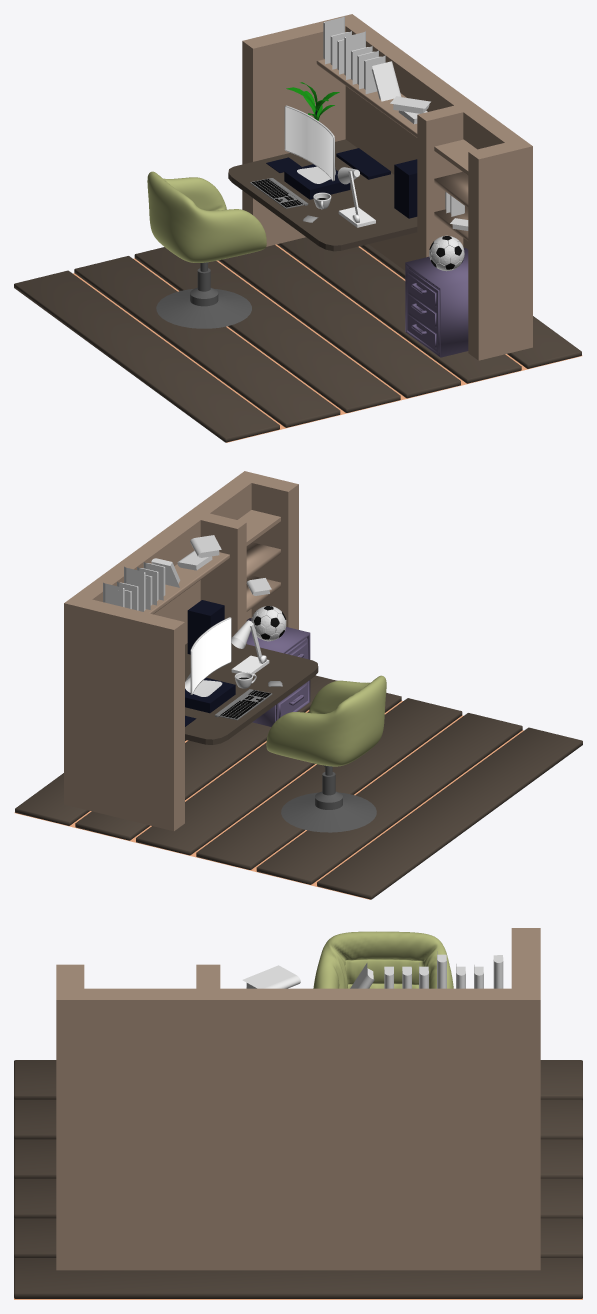
The model's file is setup.glb.
3 renders of one model, top to bottom at view 1: azimuth 30°, elevation 25°; view 2: azimuth 150°, elevation 25°; view 3: azimuth 270°, elevation 25°, orthographic. The views are drawn at different scales.
Visible parts, largest first — view 1: bricks, shelf, Plane, Cube.029, Cube, partition, Cylinder, Plane.003, Ground, Plane.005, Plane.001, Plane.004 (+6 smaller); view 2: bricks, shelf, Cube.029, Plane, partition, Cylinder, Cube, Plane.003, Ground, Plane.001, Plane.005, Icosphere (+3 smaller); view 3: shelf, bricks, Cube.029, Cube.022, partition, Ground.
Part boxes in pixels (x1,y1,x2,y2): bricks: (14,237,581,442); shelf: (242,14,532,360); Plane: (228,139,417,251); Cube.029: (147,171,266,262); Cube: (405,248,468,357); partition: (417,105,463,259); Cylinder: (156,262,251,328); Plane.003: (284,105,334,180); Ground: (73,244,582,442); Plane.005: (394,159,417,218); Plane.001: (316,59,417,137); Plane.004: (284,164,350,199); bricks: (15,675,582,899); shelf: (64,471,298,831); Cube.029: (266,675,386,766); Plane: (185,643,318,744); partition: (200,513,246,643); Cylinder: (281,765,376,832); Cube: (246,618,310,726); Plane.003: (190,617,231,694); Ground: (14,701,523,899); Plane.001: (144,552,229,614); Plane.005: (187,600,224,654); Icosphere: (251,606,286,641); shelf: (56,928,540,1270); bricks: (14,1060,582,1298); Cube.029: (313,931,453,988); Cube.022: (242,965,300,988); partition: (196,964,220,988); Ground: (14,1298,582,1299).
Size of the model in its own units: 7.79 by 4.8 by 8.
